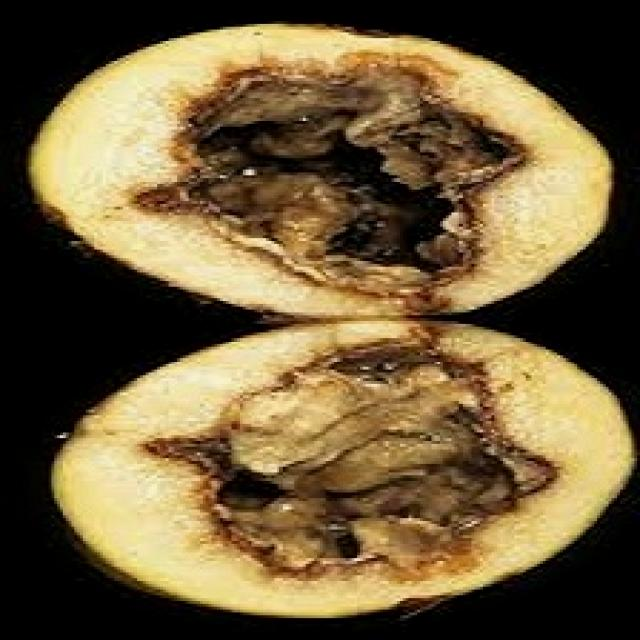blackleg: (45, 318, 627, 639), (21, 12, 629, 316)
